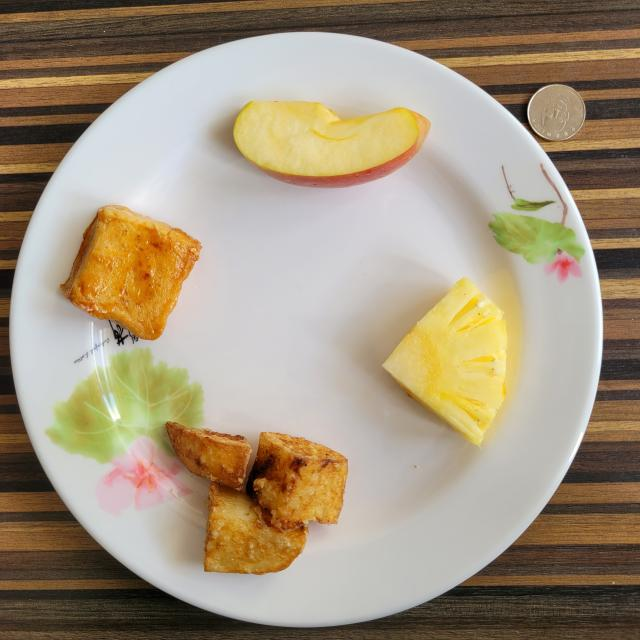apple -sliced-: (234, 101, 430, 188)
coin: (528, 84, 585, 141)
creamy tofu: (60, 205, 201, 340)
fried potato: (166, 421, 348, 575)
pineapple: (382, 278, 508, 445)
